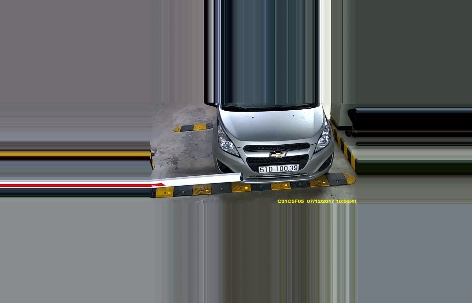plate: (257, 162, 298, 176)
